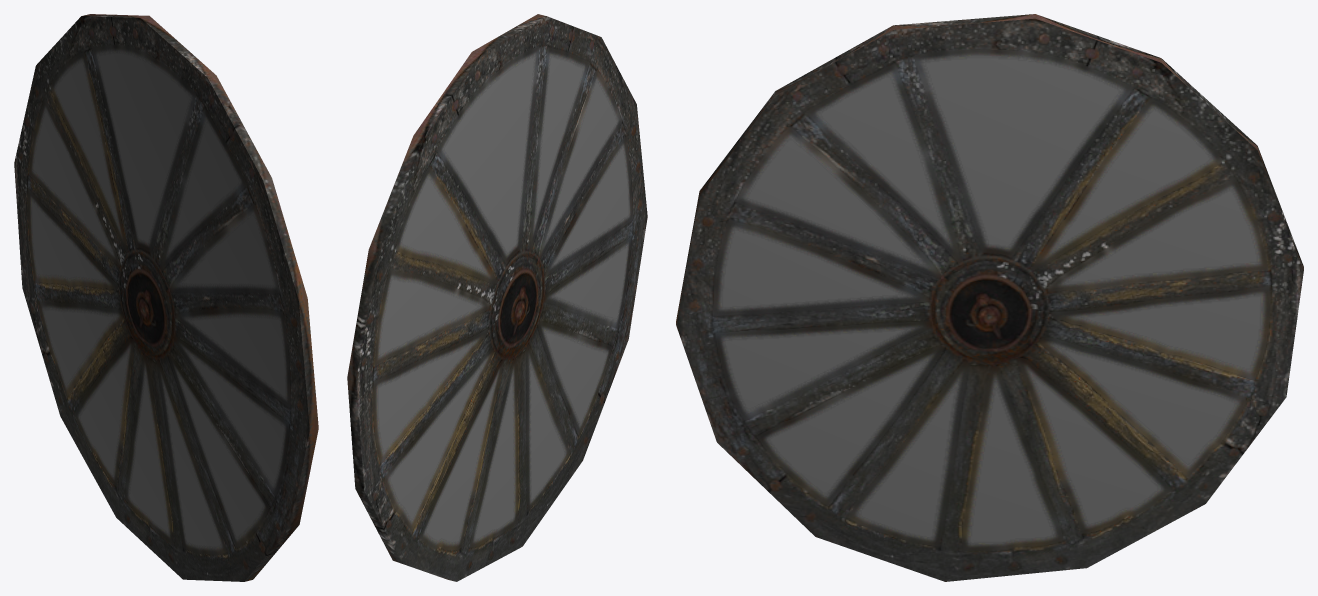
Rendered from Wheel_LOD03.fbx.
The picture shows the model from 3 angles, left to right: view 1: azimuth 30°, elevation 25°; view 2: azimuth 150°, elevation 25°; view 3: azimuth 270°, elevation 25°; orthographic projection. The views are drawn at different scales.
Parts seen in each view (by area): view 1: Mesh Object; view 2: Mesh Object; view 3: Mesh Object.
Boxes of the visible parts, left/top/right/bottom form: Mesh Object: left=14, top=14, right=318, bottom=581; Mesh Object: left=347, top=14, right=647, bottom=581; Mesh Object: left=676, top=14, right=1303, bottom=581.
Size of the model in its own units: 0.0899 by 0.9818 by 0.9915.
